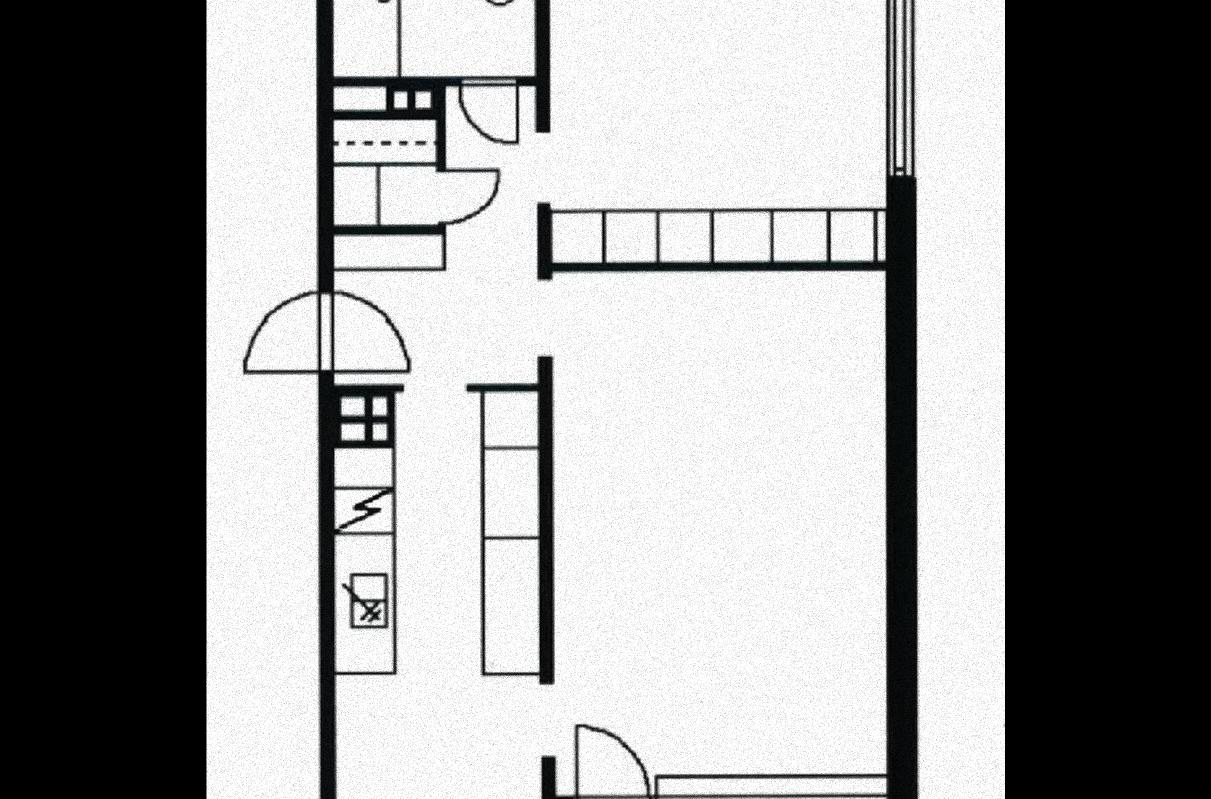door: (233, 289, 422, 379), (571, 717, 655, 799), (436, 164, 502, 225), (460, 78, 515, 149)
window: (889, 0, 916, 173)
zone: (332, 0, 888, 799), (336, 89, 438, 268), (333, 0, 540, 80)
